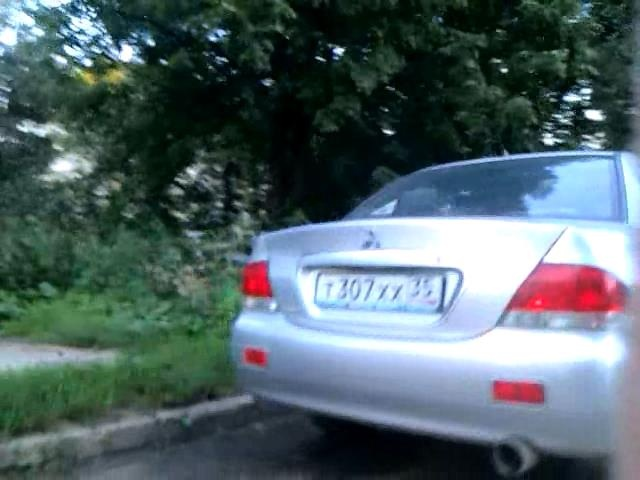car license plate: (315, 272, 448, 314)
